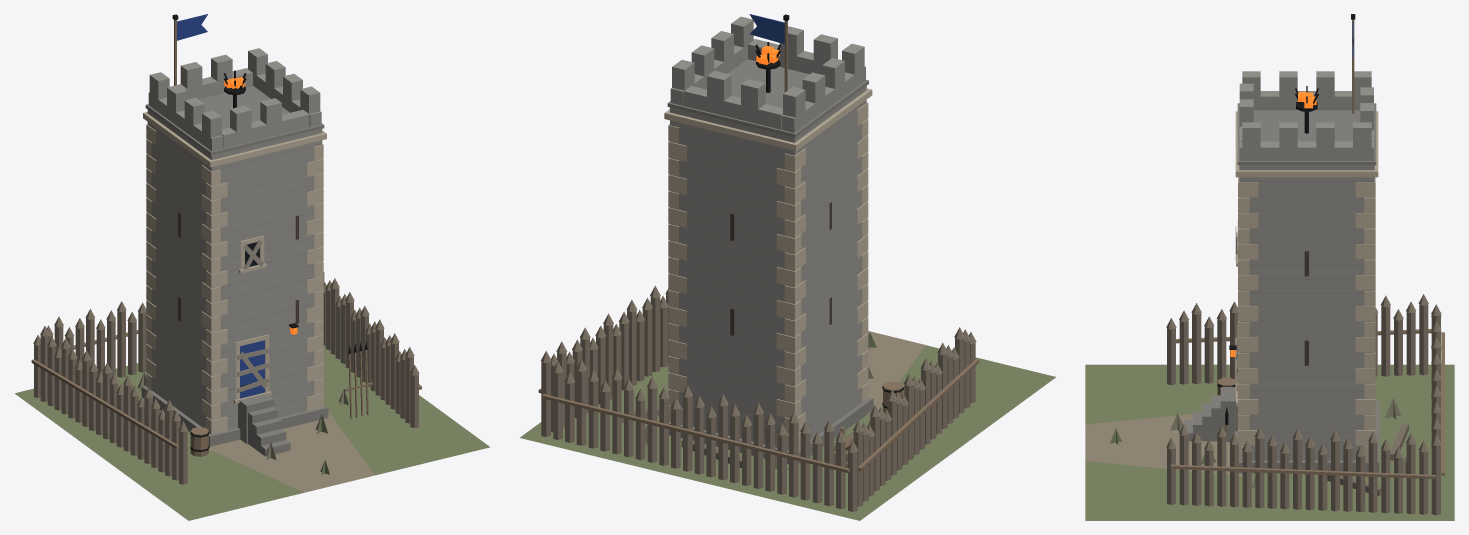
The model's file is wachturm.glb.
3 views of the same model, side by side, from view 1: azimuth 30°, elevation 25°; view 2: azimuth 150°, elevation 25°; view 3: azimuth 270°, elevation 25° (orthographic). The views are drawn at different scales.
Visible parts, largest first — view 1: Haus, Arbeit, Leerstand, Fahne; view 2: Haus, Fahne, Arbeit; view 3: Haus, Leerstand, Arbeit.
Part boxes in pixels (bbox=[...]): Haus: bbox=[15, 48, 489, 520]; Arbeit: bbox=[118, 77, 372, 456]; Leerstand: bbox=[109, 240, 348, 475]; Fahne: bbox=[172, 14, 207, 85]; Haus: bbox=[520, 16, 1055, 520]; Fahne: bbox=[749, 14, 789, 92]; Arbeit: bbox=[756, 45, 903, 472]; Haus: bbox=[1085, 71, 1454, 520]; Leerstand: bbox=[1110, 227, 1408, 495]; Arbeit: bbox=[1217, 92, 1316, 436].
Size of the model in its own units: 12 by 14.64 by 12.
